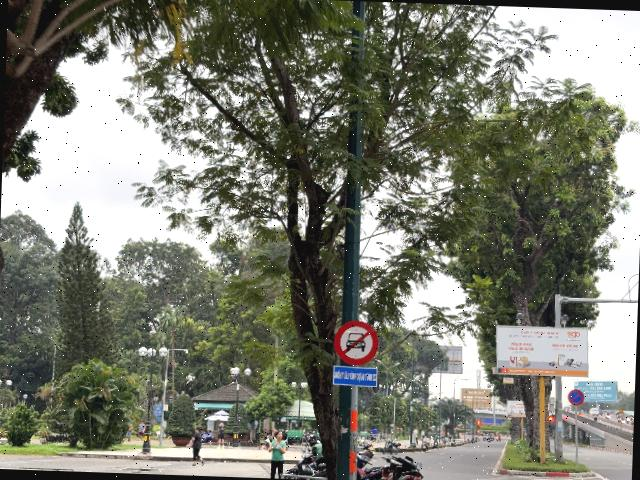cam-o-to: (332, 320, 380, 366)
